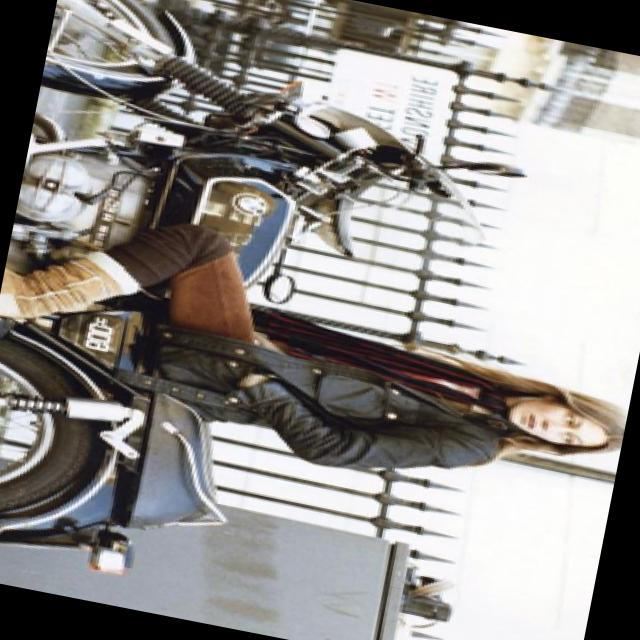bareface: (486, 375, 630, 466)
